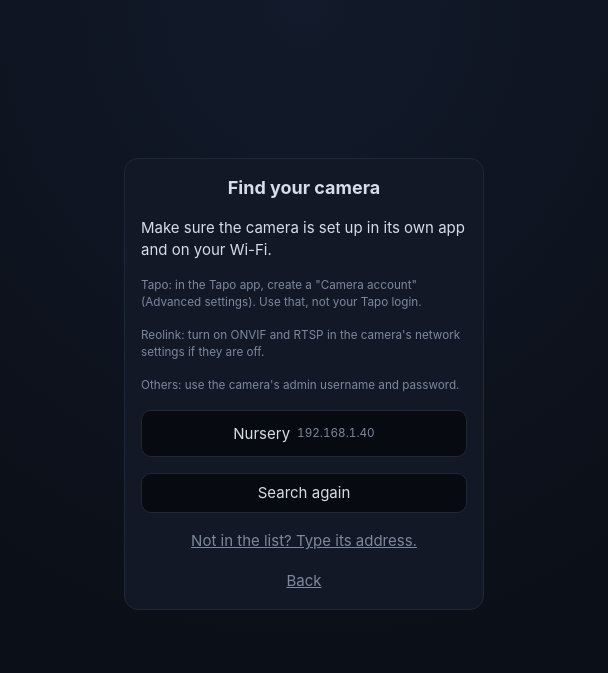
Test: a typed host and port goes to check
Click the button "Not in the list? Type its address." at (304, 541), box [141,529,467,553]
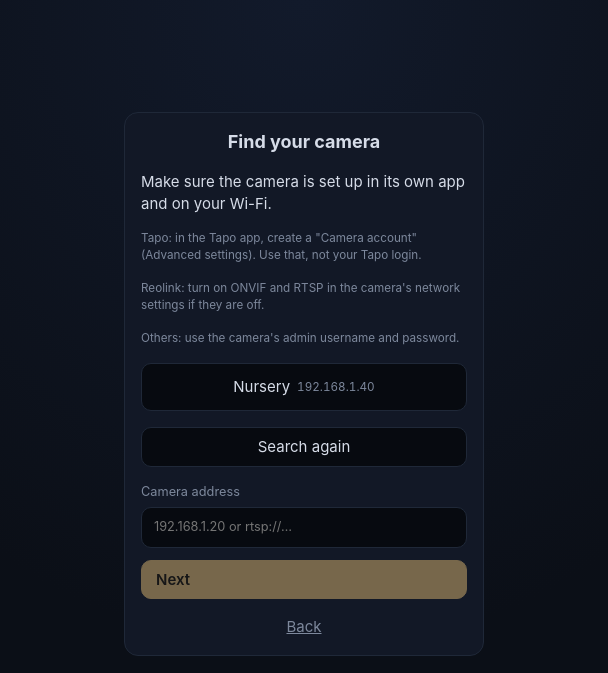
Type "192.168.1.42:2020" into the field labelled "Camera address" at (304, 527), box [141,507,467,548]
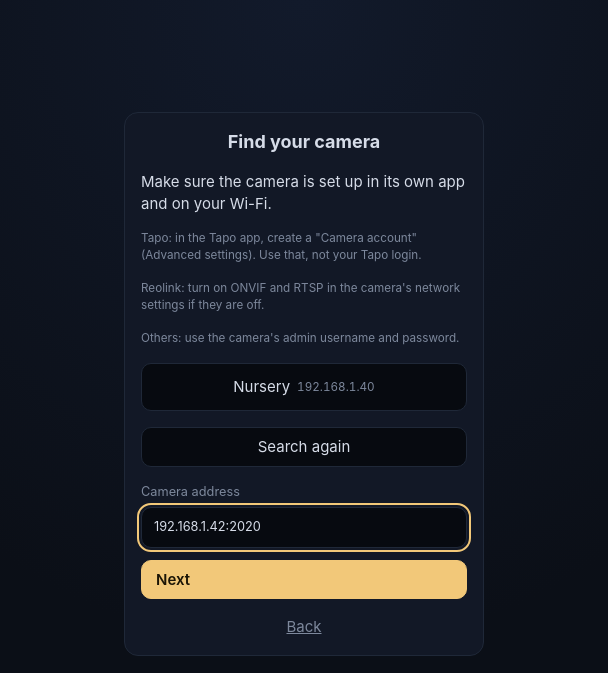
Click the button "Next" at (173, 579), box [141,560,467,600]
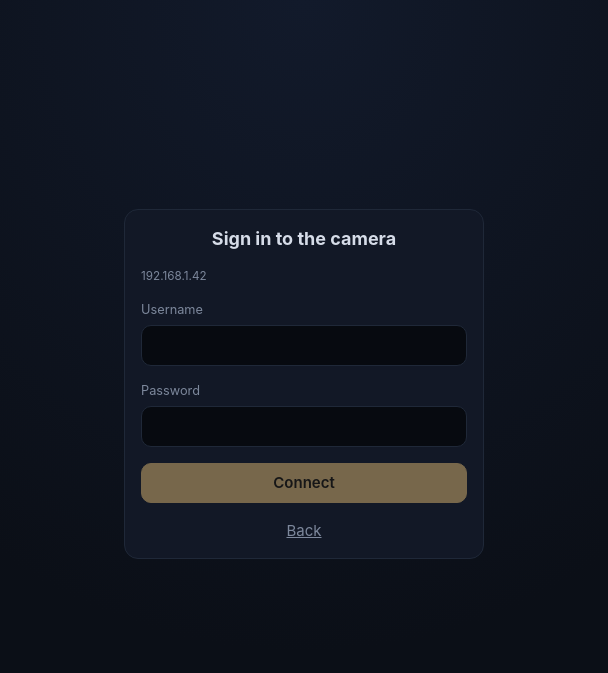
Type "admin" into the field labelled "Username" at (304, 346), box [141,325,467,366]
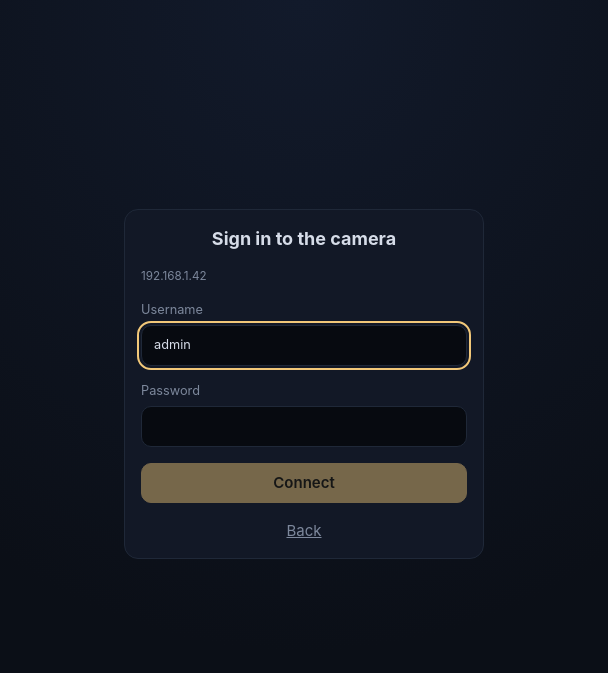
Type "cam-pass" into the password field labelled "Password" at (304, 427), box [141,406,467,447]
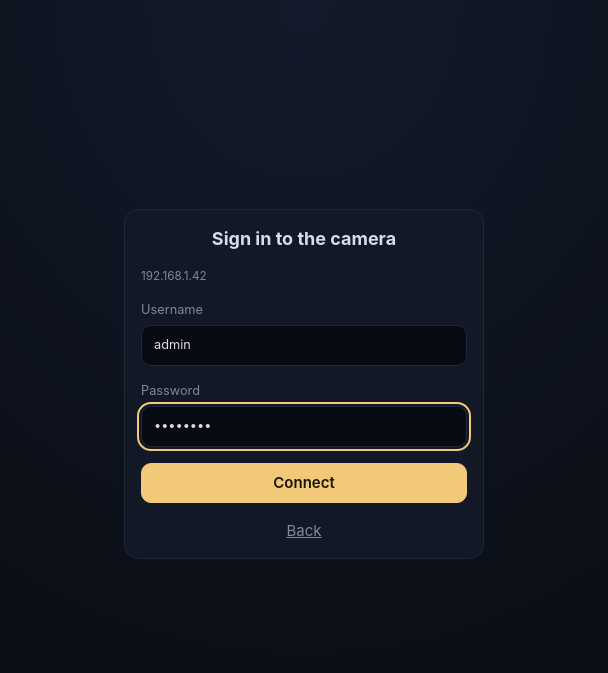
Click the button "Connect" at (304, 483), box [141,463,467,503]
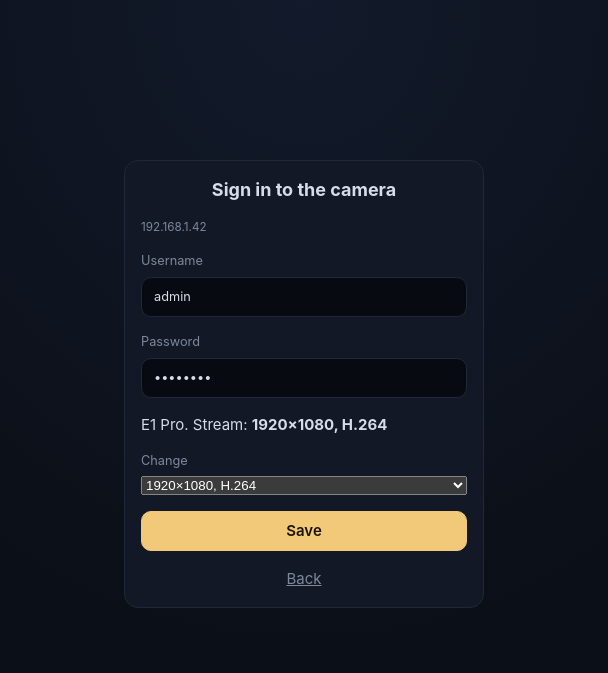
expect the text "1920×1080, H.264" is shown: met, box [252,415,387,434]
